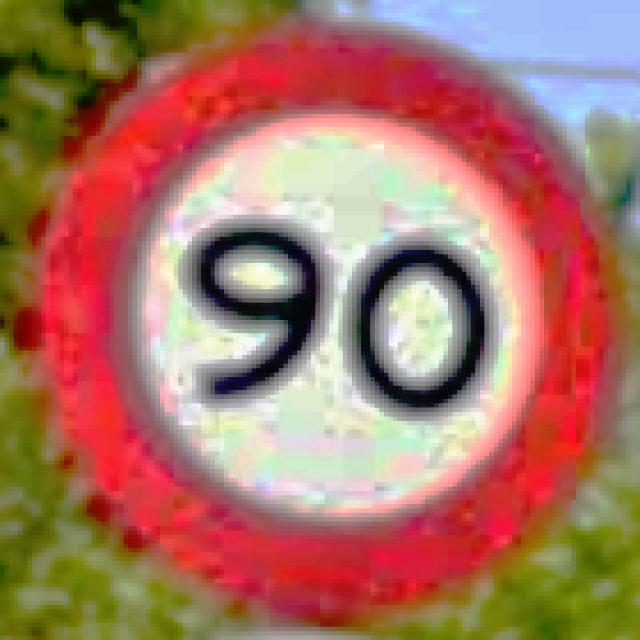max90: (14, 13, 631, 631)
